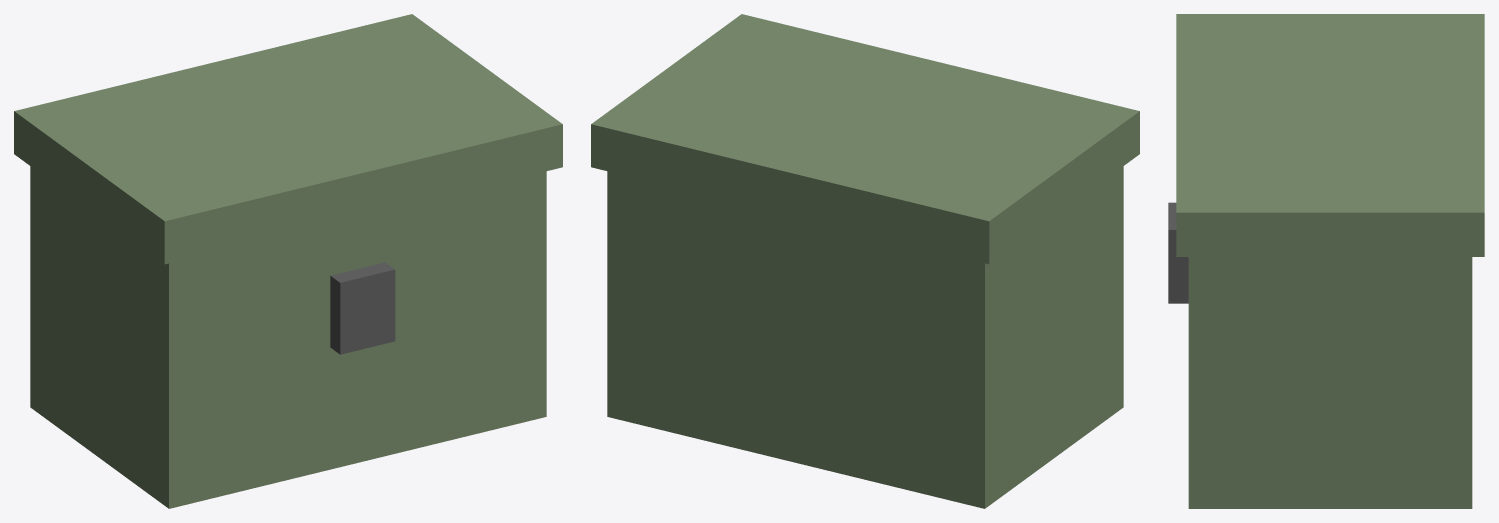
Rendered from ammo_box.glb.
3 renders of one model, left to right at view 1: azimuth 30°, elevation 25°; view 2: azimuth 150°, elevation 25°; view 3: azimuth 270°, elevation 25°, orthographic. The views are drawn at different scales.
Parts seen in each view (by area): view 1: CrateBody, Lid, Latch; view 2: CrateBody, Lid; view 3: Lid, CrateBody, Latch.
Boxes of the visible parts, bbox=[...] form: CrateBody: bbox=[30, 166, 546, 508]; Lid: bbox=[14, 14, 562, 264]; Latch: bbox=[330, 262, 395, 354]; CrateBody: bbox=[607, 166, 1123, 508]; Lid: bbox=[591, 14, 1139, 264]; Lid: bbox=[1176, 14, 1484, 256]; CrateBody: bbox=[1188, 257, 1472, 508]; Latch: bbox=[1168, 202, 1188, 303].
Bounding box in the file's own units: 0.58 × 0.41 × 0.39.
